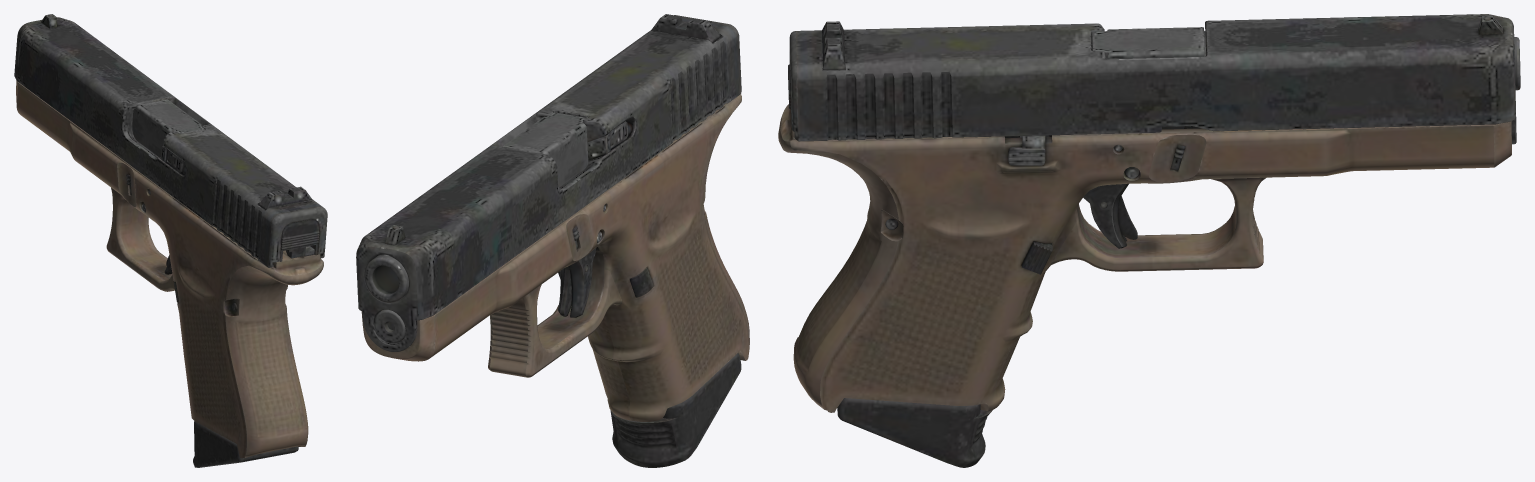
File: p_glock18.glb
3 views of the same model, side by side, from view 1: azimuth 30°, elevation 25°; view 2: azimuth 150°, elevation 25°; view 3: azimuth 270°, elevation 25° (orthographic). The views are drawn at different scales.
Visible parts, largest first — view 1: p_glock18; view 2: p_glock18; view 3: p_glock18.
Part boxes in pixels (box(x1,y1,x2,y2)): p_glock18: box(14, 14, 327, 467); p_glock18: box(356, 14, 749, 467); p_glock18: box(778, 14, 1520, 467).
Bounding box in the file's own units: 0.0558 × 0.215 × 0.3242.
1 material, 1 textured.
